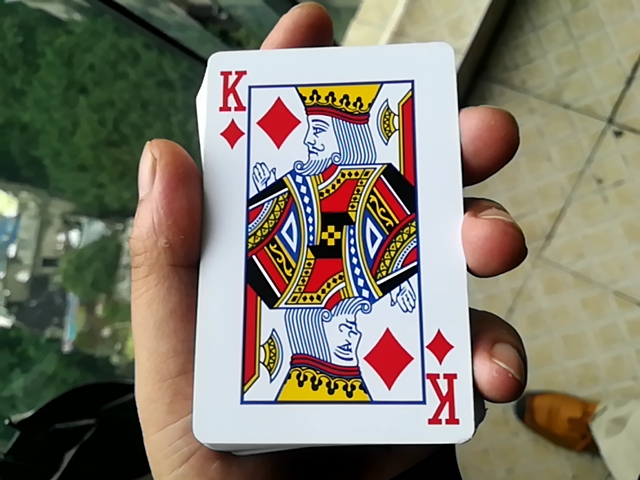fk k: (177, 32, 473, 440)
